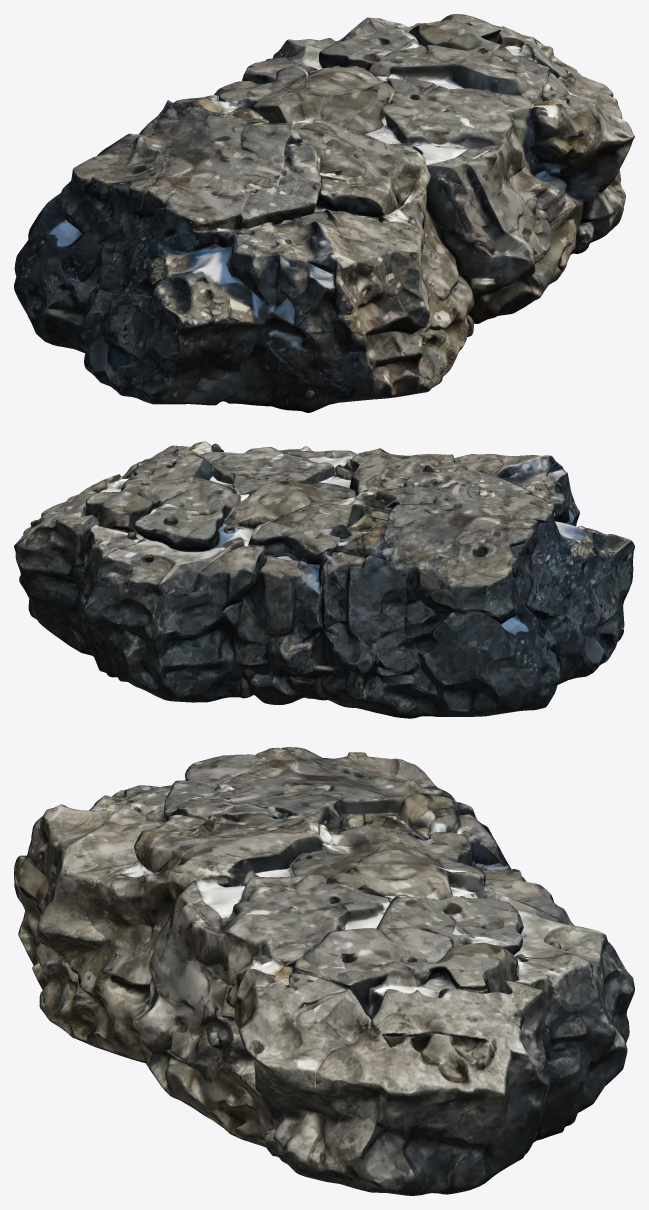
File: summit-ledge.glb
3 views of the same model, one above another, from view 1: azimuth 30°, elevation 25°; view 2: azimuth 150°, elevation 25°; view 3: azimuth 270°, elevation 25° (orthographic). The views are drawn at different scales.
Visible parts, largest first — view 1: node_12043be9-4eee-4345-a6ce-64ee9f012af3; view 2: node_12043be9-4eee-4345-a6ce-64ee9f012af3; view 3: node_12043be9-4eee-4345-a6ce-64ee9f012af3.
Boxes of the visible parts, bbox=[...] form: node_12043be9-4eee-4345-a6ce-64ee9f012af3: bbox=[14, 14, 634, 412]; node_12043be9-4eee-4345-a6ce-64ee9f012af3: bbox=[14, 441, 634, 718]; node_12043be9-4eee-4345-a6ce-64ee9f012af3: bbox=[14, 747, 634, 1195].
Size of the model in its own units: 0.9805 by 0.3028 by 0.8255.
Materials: 1 (1 with a texture image).
